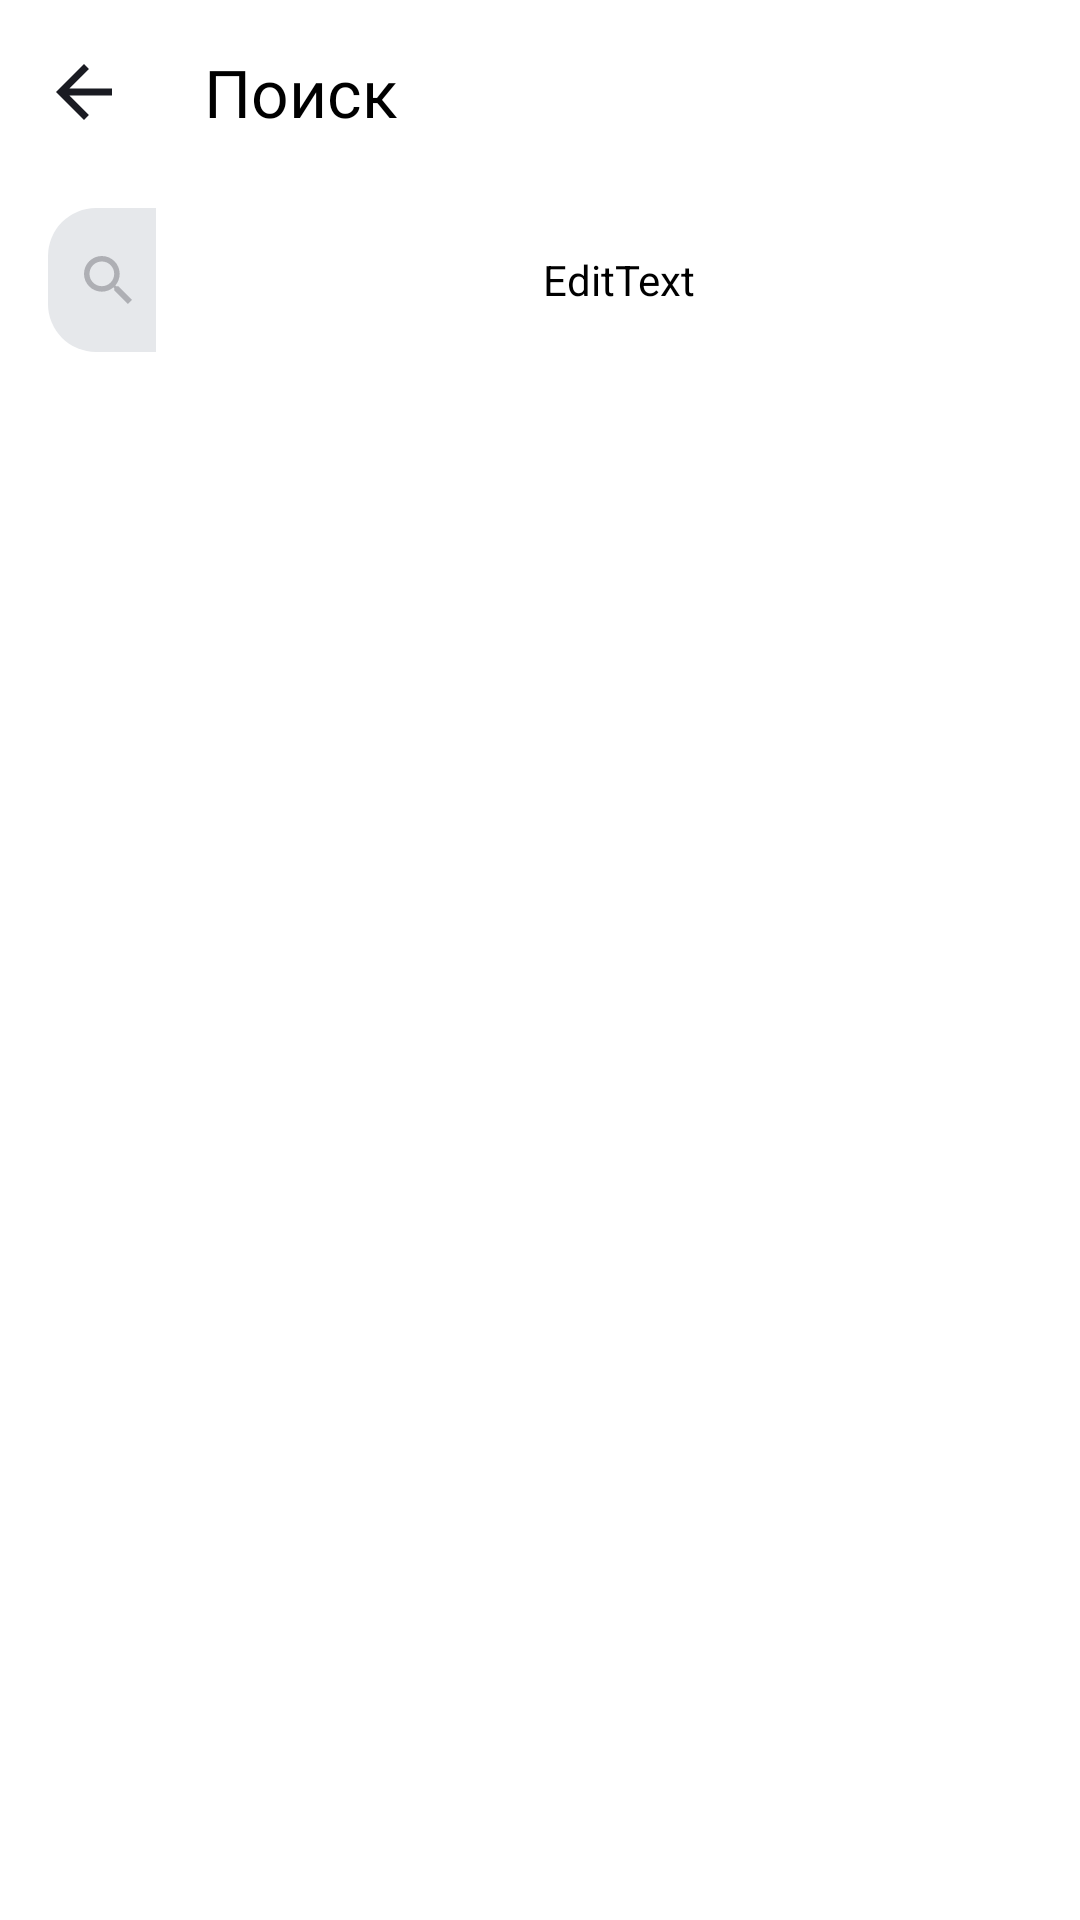

Point at icon controls on the screen. Image size 1080×1920, points as [x,y].
arrow back: [84,92]
search: [108,280]
